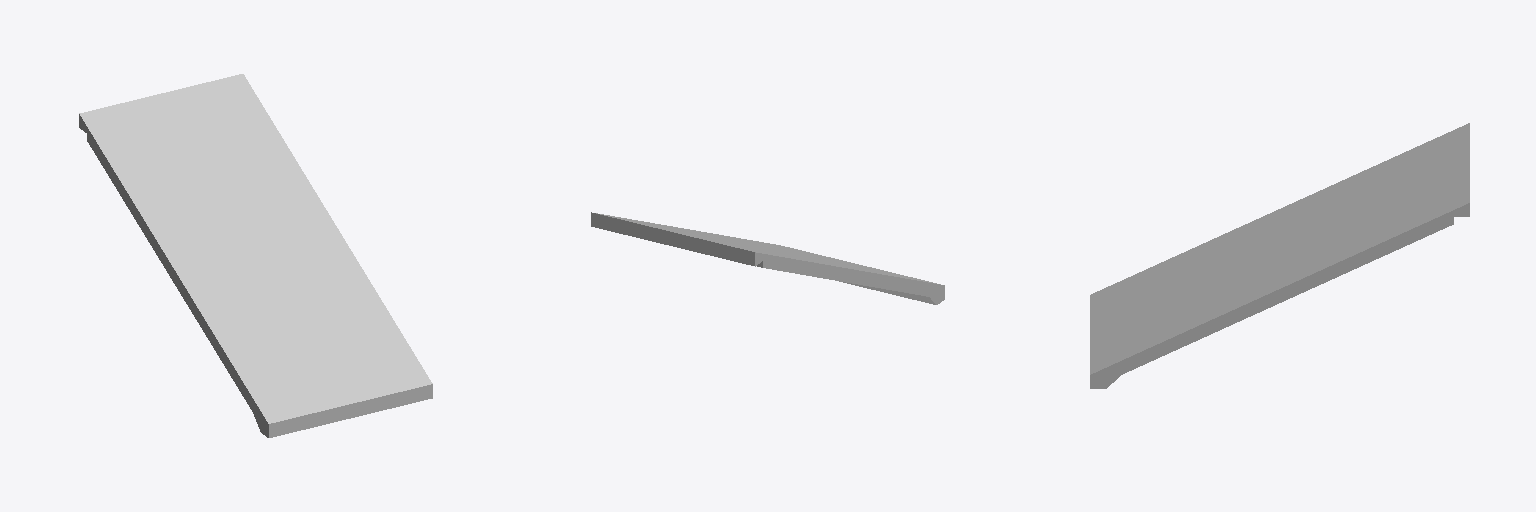
The model's file is OBJRamp_3m.obj.
3 views of the same model, side by side, from view 1: azimuth 30°, elevation 25°; view 2: azimuth 150°, elevation 25°; view 3: azimuth 270°, elevation 25° (orthographic).
Parts seen in each view (by area): view 1: Ramp_3m; view 2: Ramp_3m; view 3: Ramp_3m.
Boxes of the visible parts, box(x1,y1,x2,y2) form: Ramp_3m: box(79, 74, 432, 437); Ramp_3m: box(591, 212, 944, 304); Ramp_3m: box(1090, 123, 1469, 388).
Bounding box in the file's own units: 3 × 3.25 × 6.